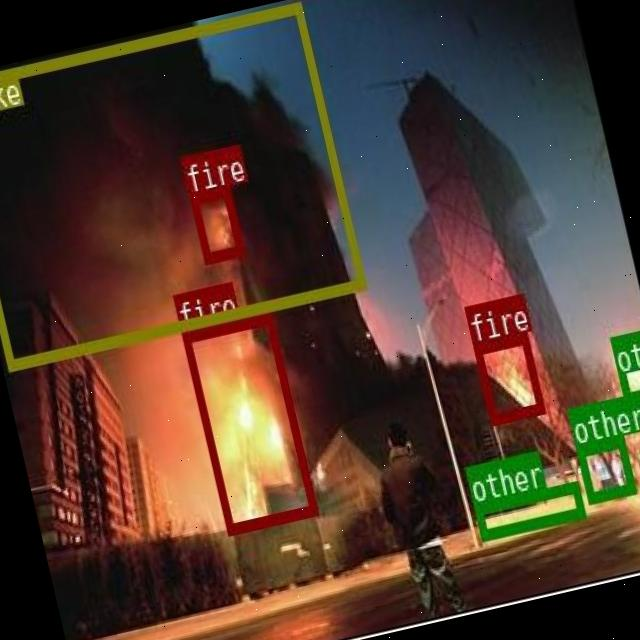fire: (179, 311, 316, 533), (472, 331, 543, 424), (188, 183, 244, 260)
smoke: (0, 1, 364, 369)
